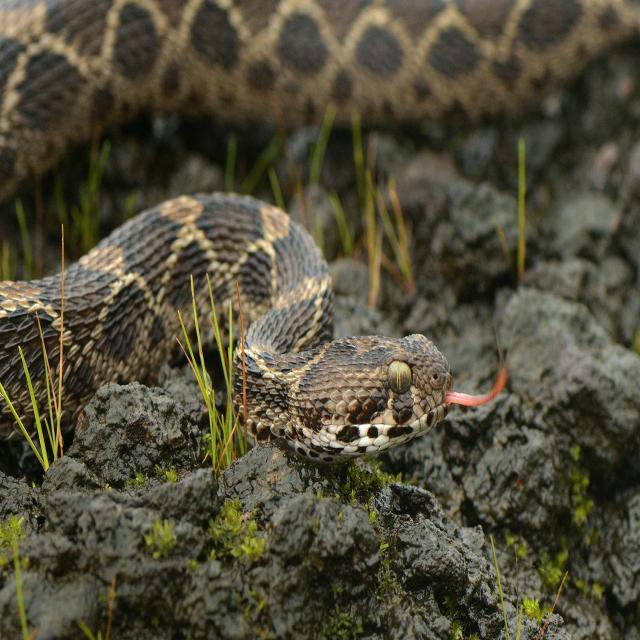Snake: (2, 0, 630, 462)
